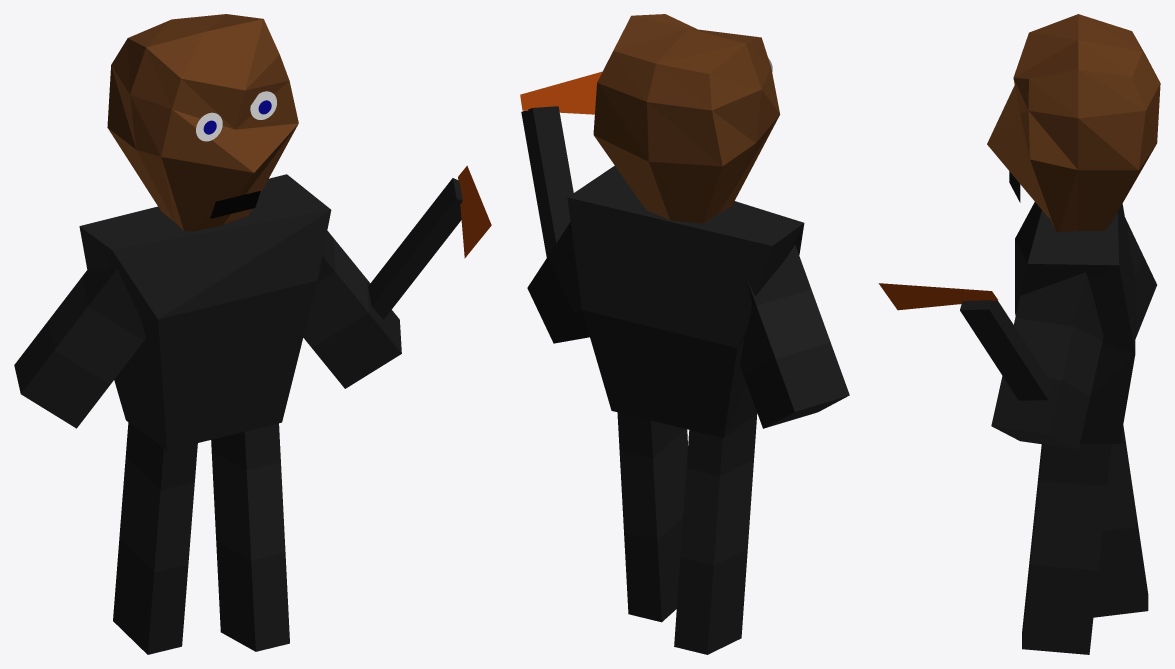
The model's file is axeman3f.obj.
3 renders of one model, left to right at view 1: azimuth 30°, elevation 25°; view 2: azimuth 150°, elevation 25°; view 3: azimuth 270°, elevation 25°, orthographic. The views are drawn at different scales.
Parts seen in each view (by area): view 1: Cube.001, Cube, Cube.005, Cube.004, Cube.003, Cube.002, Cube.007, Plane.001, Plane; view 2: Cube.001, Cube, Cube.004, Cube.003, Cube.005, Cube.007, Cube.002, Plane.001; view 3: Cube, Cube.005, Cube.001, Cube.002, Cube.004, Cube.007, Plane.001, Cube.003.
Boxes of the visible parts, x1=… form: Cube.001: x1=79, y1=174, x2=331, y2=450; Cube: x1=107, y1=14, x2=298, y2=231; Cube.005: x1=211, y1=423, x2=289, y2=651; Cube.004: x1=113, y1=422, x2=197, y2=654; Cube.003: x1=14, y1=269, x2=145, y2=428; Cube.002: x1=303, y1=231, x2=401, y2=388; Cube.007: x1=368, y1=178, x2=462, y2=319; Plane.001: x1=458, y1=165, x2=491, y2=258; Plane: x1=210, y1=191, x2=260, y2=218; Cube.001: x1=567, y1=165, x2=804, y2=437; Cube: x1=593, y1=14, x2=780, y2=223; Cube.004: x1=674, y1=414, x2=757, y2=654; Cube.003: x1=740, y1=244, x2=849, y2=428; Cube.005: x1=617, y1=412, x2=687, y2=622; Cube.007: x1=521, y1=106, x2=573, y2=257; Cube.002: x1=527, y1=222, x2=589, y2=343; Plane.001: x1=520, y1=71, x2=602, y2=114; Cube: x1=987, y1=14, x2=1160, y2=231; Cube.005: x1=1022, y1=444, x2=1111, y2=654; Cube.001: x1=1015, y1=202, x2=1135, y2=443; Cube.002: x1=991, y1=272, x2=1103, y2=449; Cube.004: x1=1093, y1=425, x2=1148, y2=617; Cube.007: x1=960, y1=300, x2=1049, y2=400; Plane.001: x1=878, y1=283, x2=997, y2=310; Cube.003: x1=1123, y1=214, x2=1156, y2=338.
Bounding box in the file's own units: 3.96 × 5.89 × 2.56.
